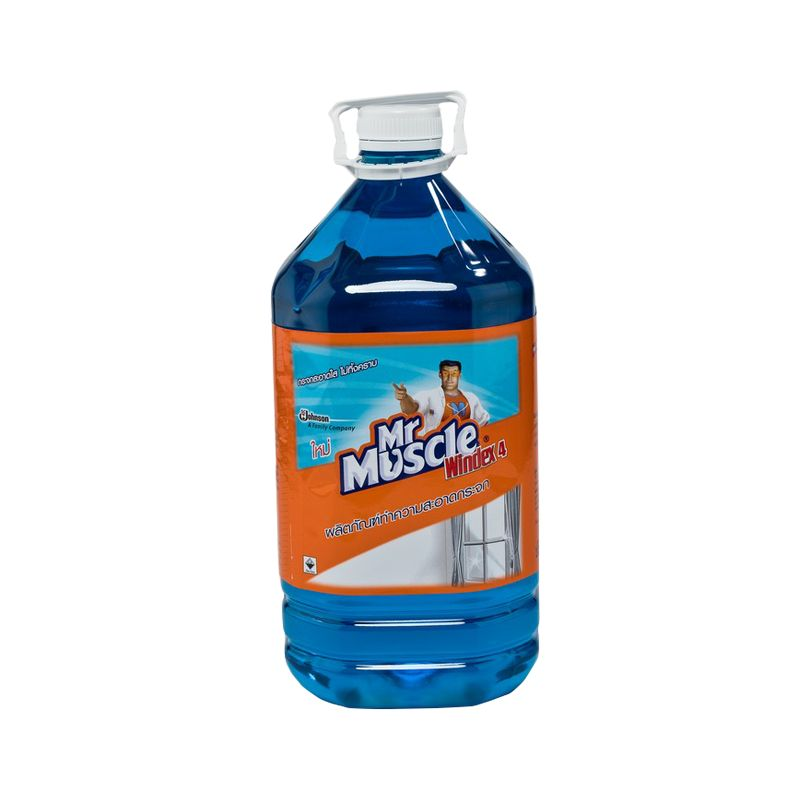Cleaning_solution: (264, 85, 547, 714)
